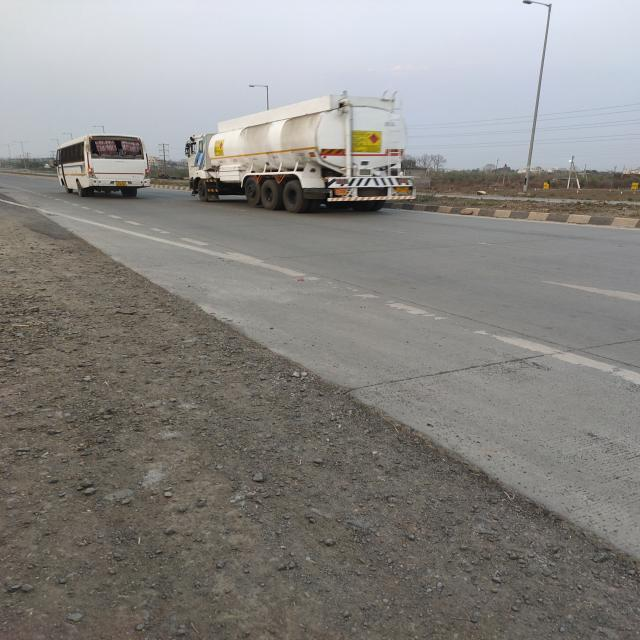bus_back: (51, 132, 154, 202)
truck_back: (178, 88, 422, 222)
